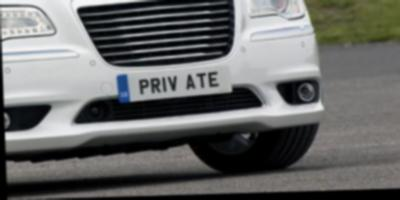License_Plate: (116, 70, 233, 98)
